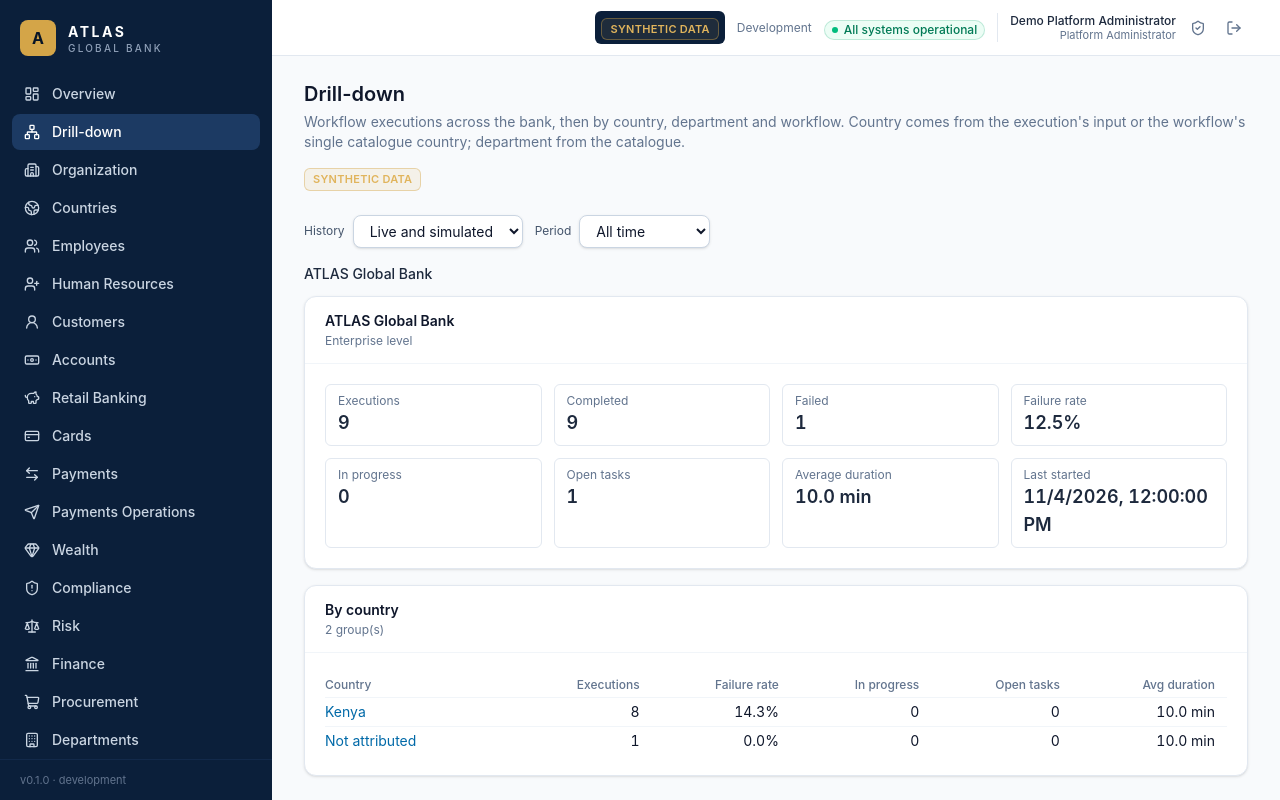
Test case: Drill-down (Phase 88) › goes from the bank to a country, a department and a workflow, and back
The image size is (1280, 800).
Expected: the text "14.3%" is shown, [652,697,791,726]
Expected: the element named "Summary" shows "12.5%", [1024,412,1081,432]
Click the link "Kenya". click: (345, 711)
box: [325,702,366,720]
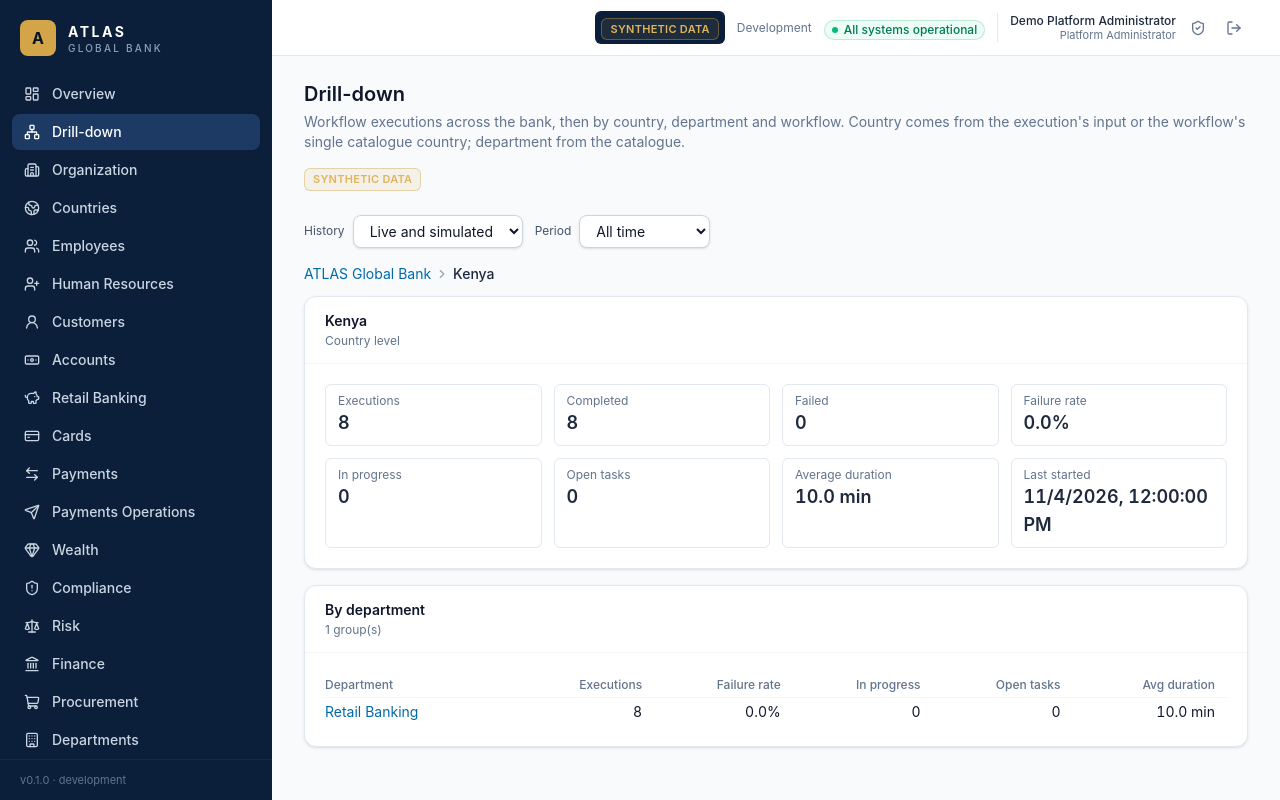
Click the 2nd link "Retail Banking". click: (372, 711)
box: [325,702,418,720]
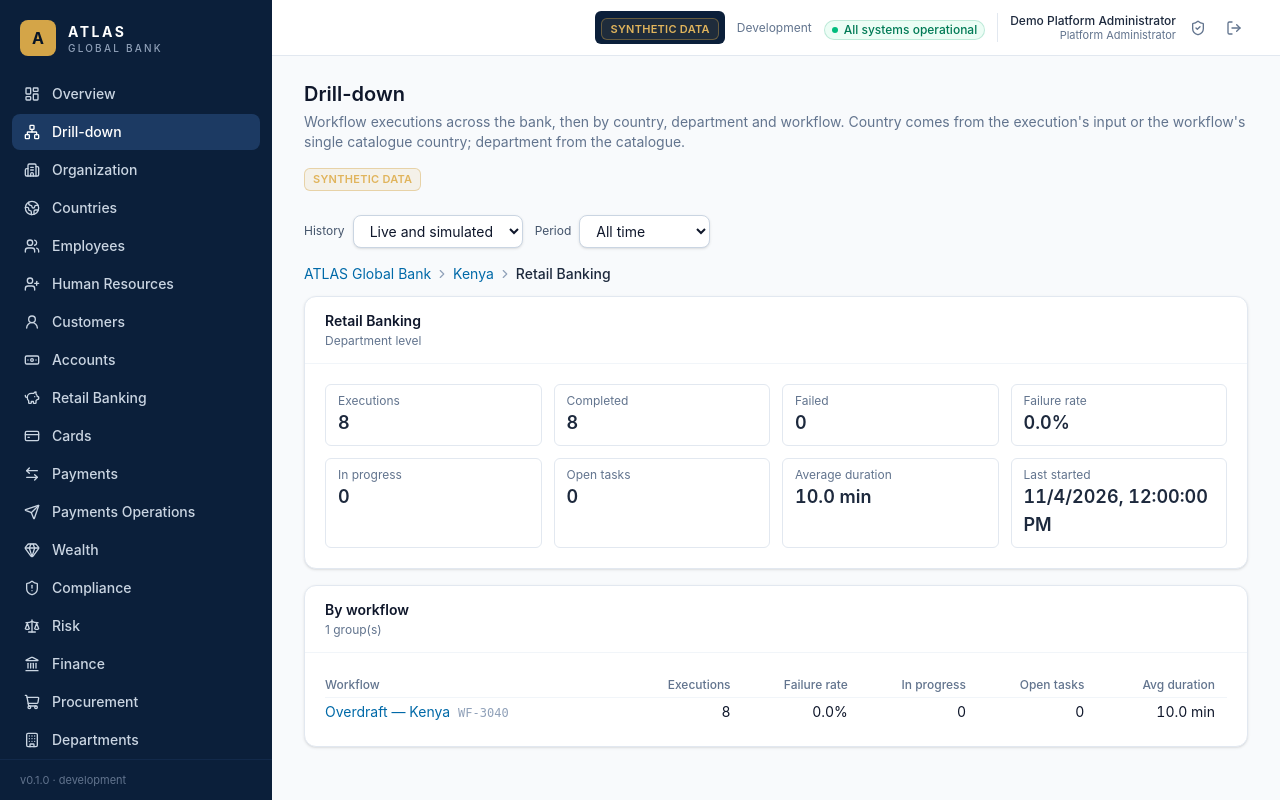
Expected: the text "WF-3040" is shown, [458,706,509,720]
Click the link "Overdraft — Kenya". click: (388, 711)
box: [325,702,450,720]
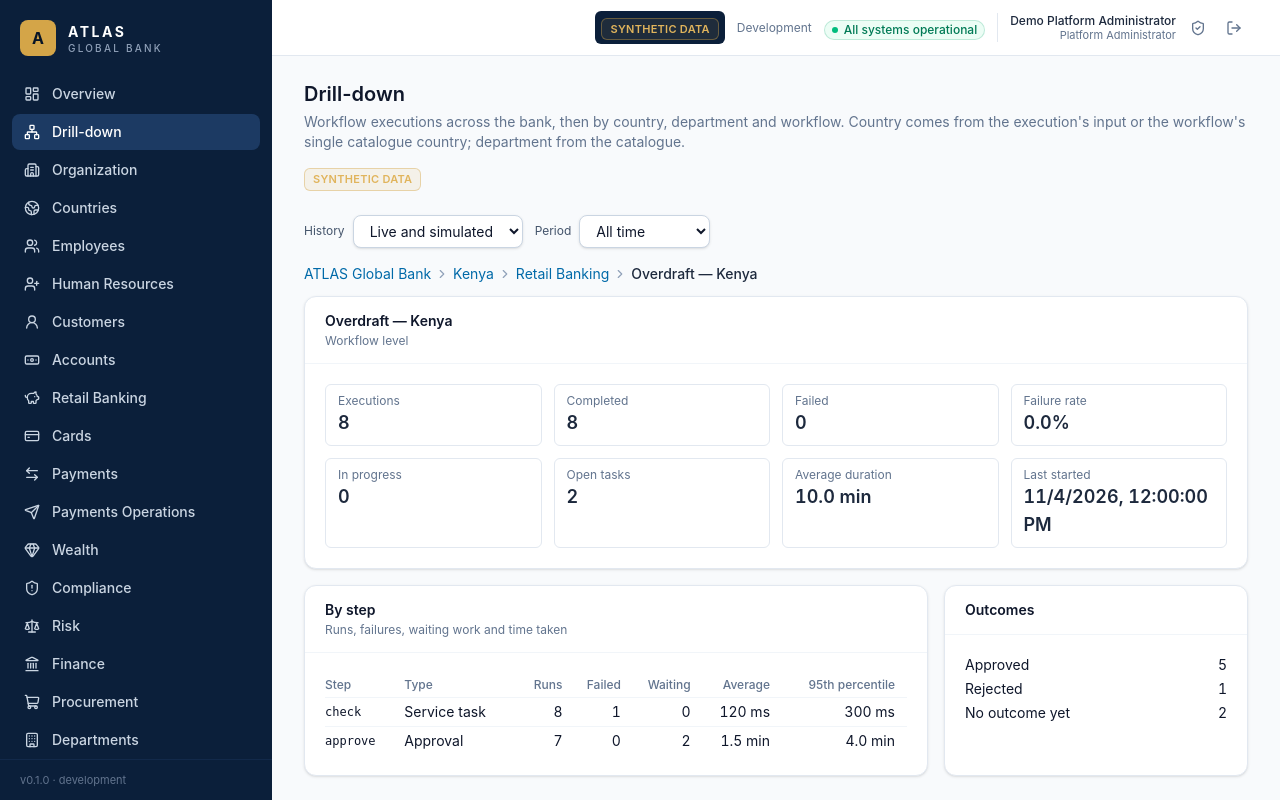
Expected: the text "1.5 min" is shown, [703,726,782,754]
Expected: the text "4.0 min" is shown, [782,726,907,754]
Note: A breadcrumb goes back up, keeping the path above it.
Click the link "Kenya". click: (474, 274)
box: [453,264,494,284]
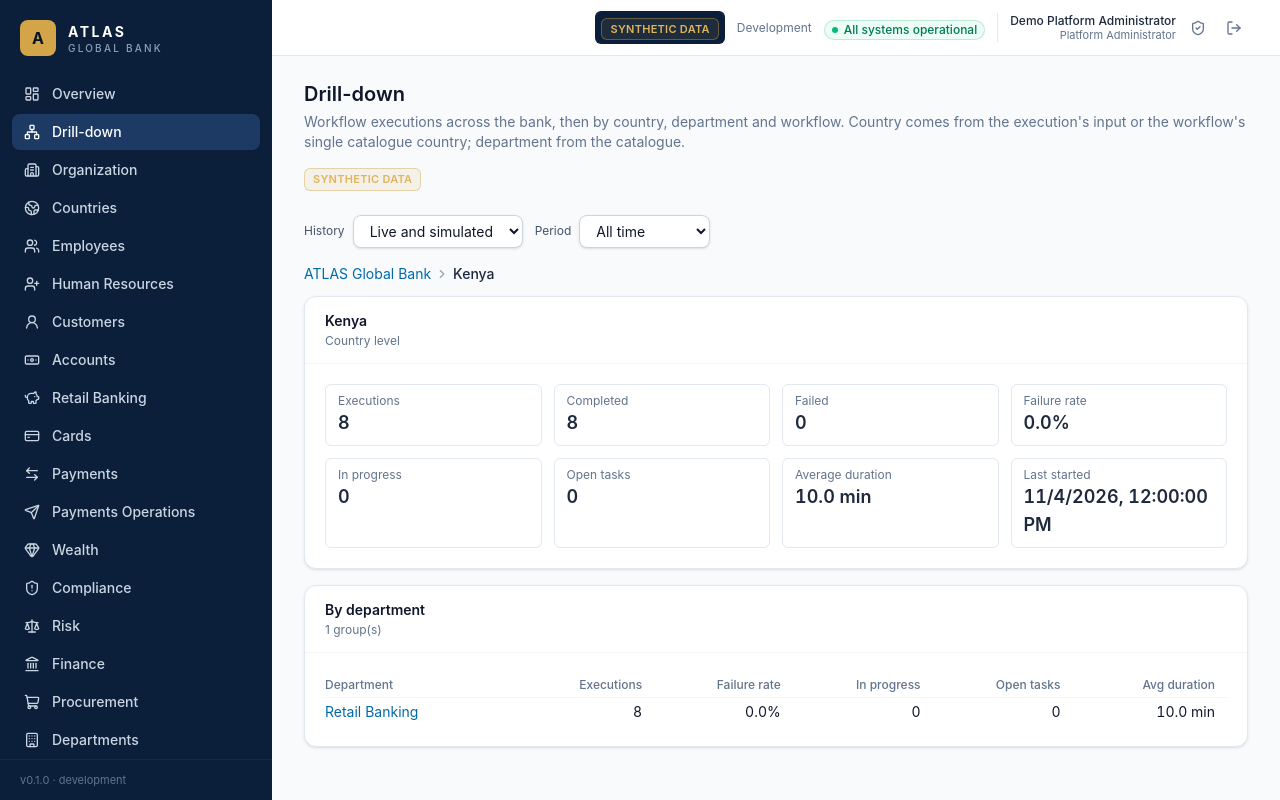
Expected: the table named "Executions by department" is shown, [325,672,1227,726]
